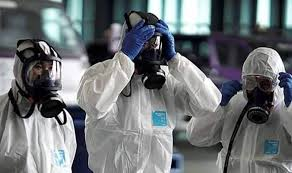mask: (241, 73, 279, 123), (27, 57, 63, 109), (136, 30, 167, 86)
